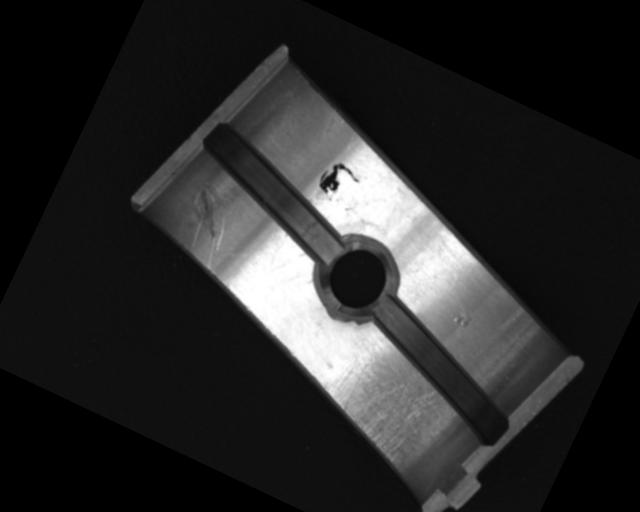blot: (312, 156, 364, 208)
bruise: (450, 305, 477, 330)
gap: (336, 288, 538, 451), (177, 115, 367, 265)
hole: (307, 228, 410, 328)
nick: (168, 177, 248, 272)
scratch: (306, 342, 472, 481)
